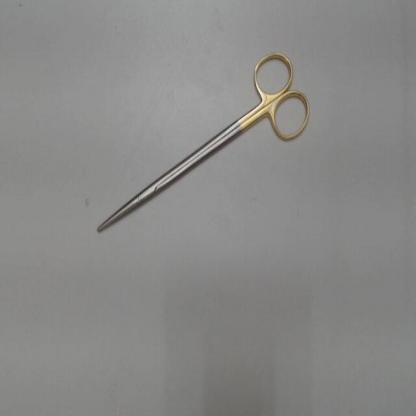7 Metzenbaum Scissors: (95, 45, 315, 237)
